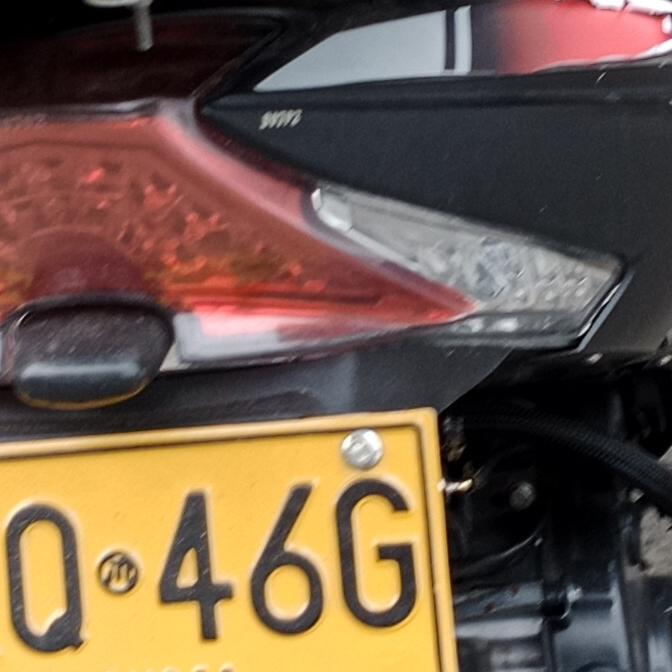plates: (0, 410, 467, 672)
